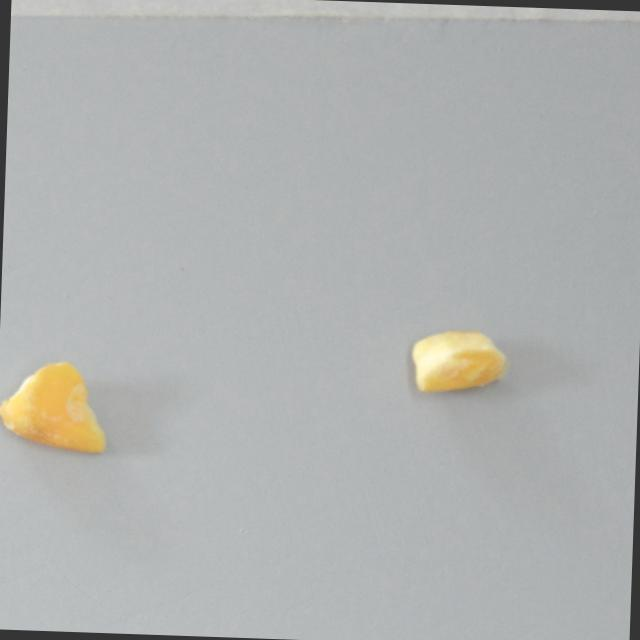pelicula: (0, 358, 110, 453), (411, 329, 509, 397)
